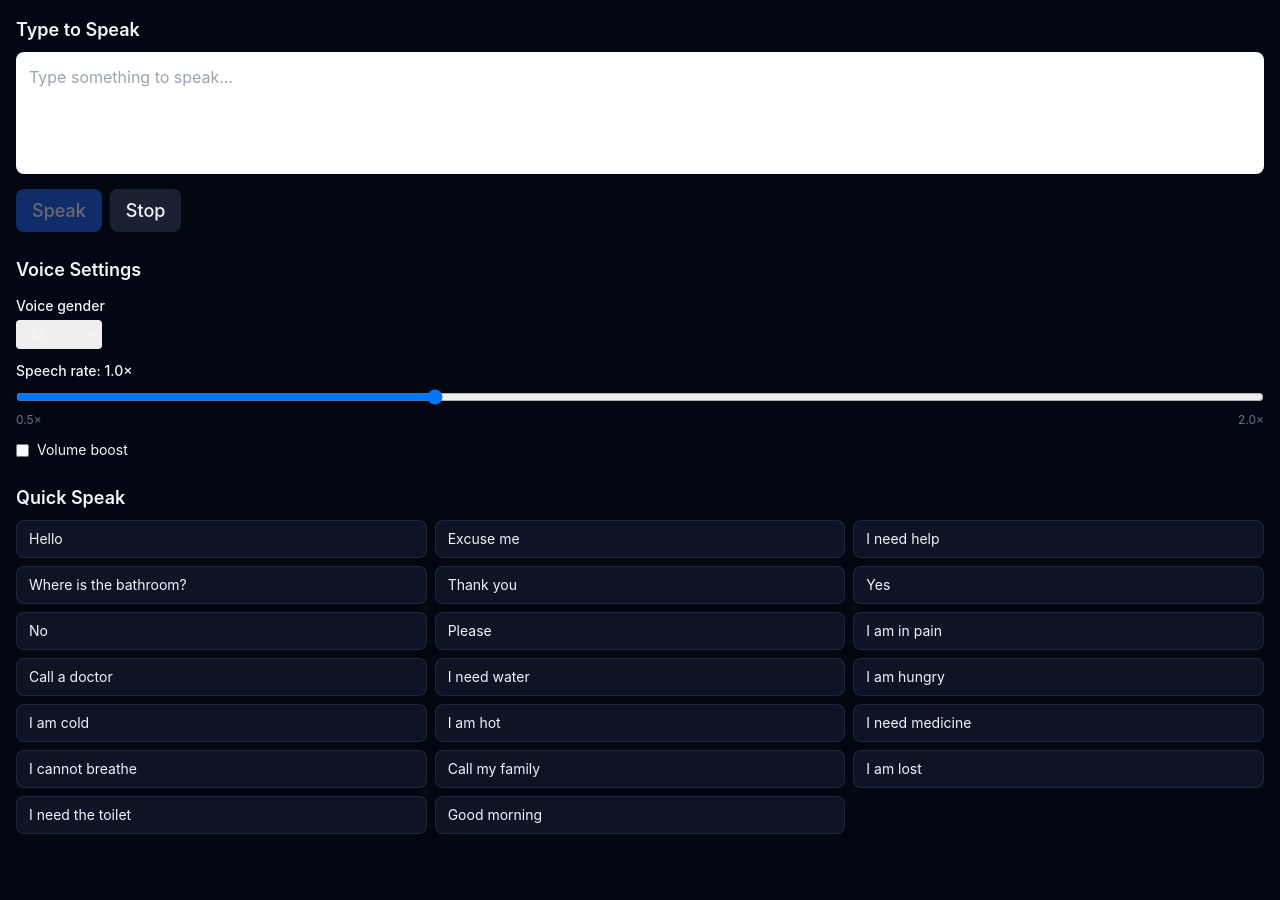
Test: Unit — TTSPanel TTS failure › retains typed text and shows error when speech synthesis is unavailable
In the text box named "Type text to speak": (640, 113) x1=16 y1=52 x2=1264 y2=174, type "Hello world"
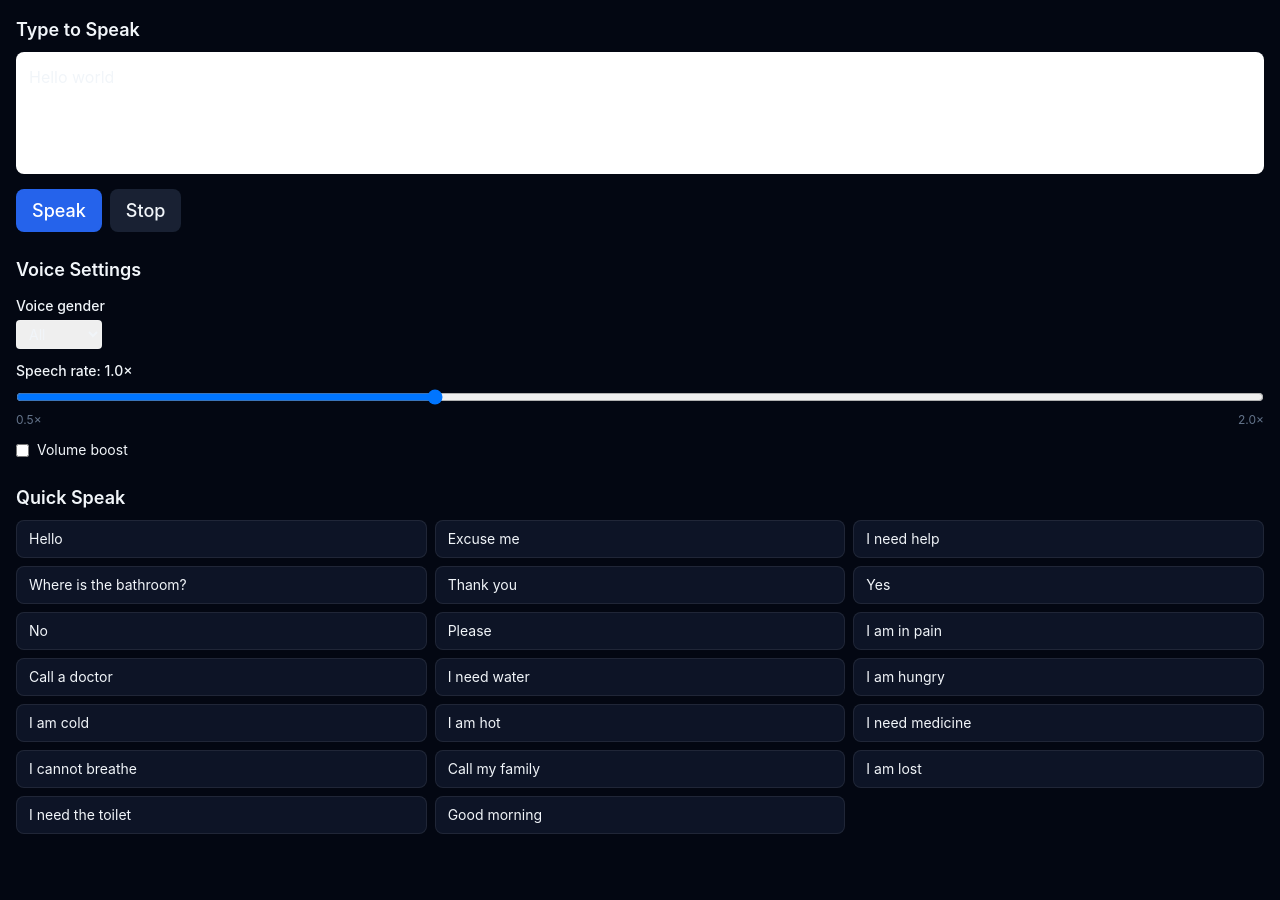
Click the button with aria-label "Speak typed text": (59, 210) x1=16 y1=189 x2=102 y2=232
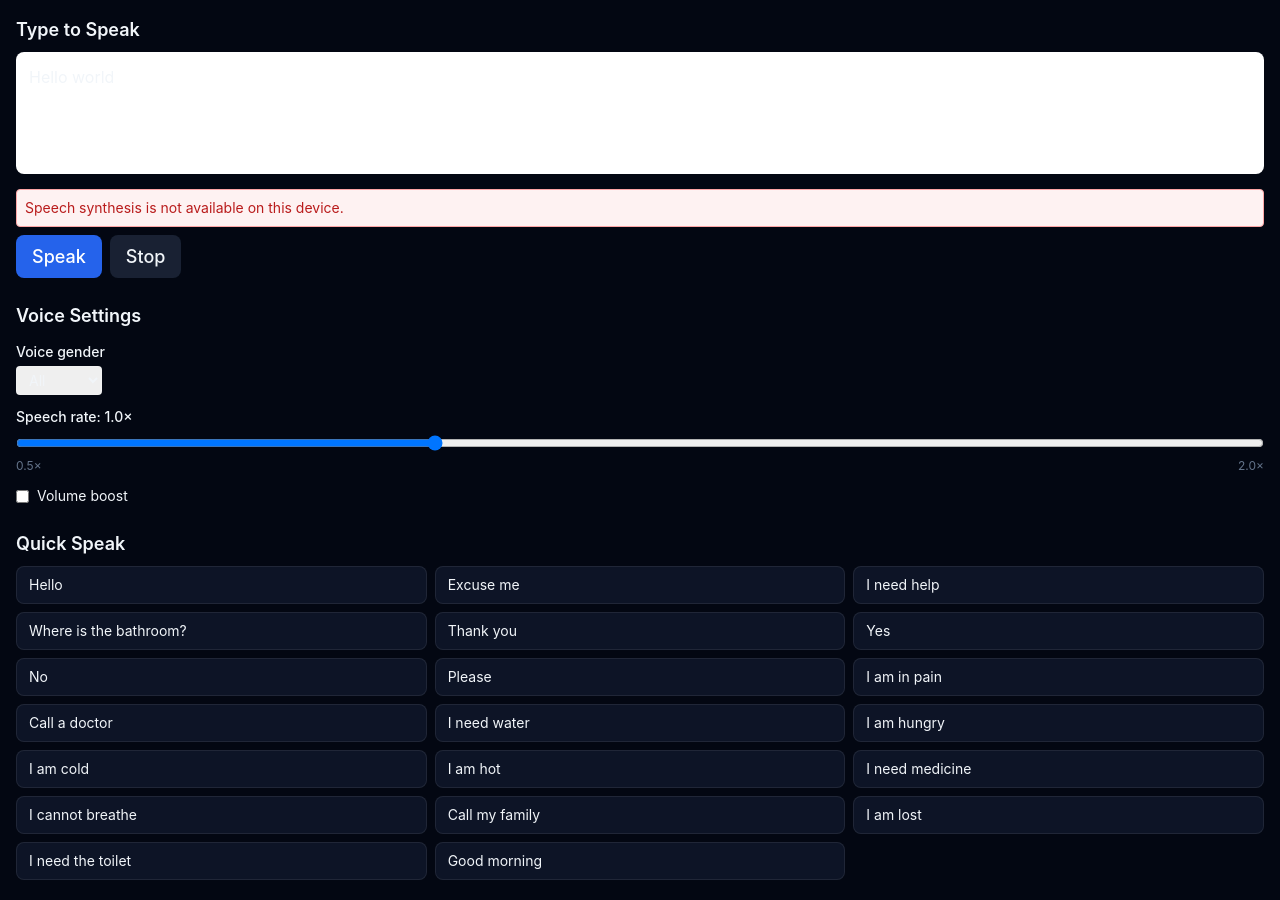
Now the message "Speech synthesis is not available on this device." is shown, box x1=16 y1=189 x2=1264 y2=227
